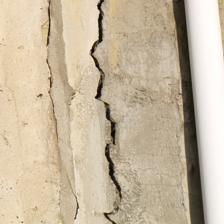Crack: (0, 0, 151, 93), (8, 0, 120, 68)
